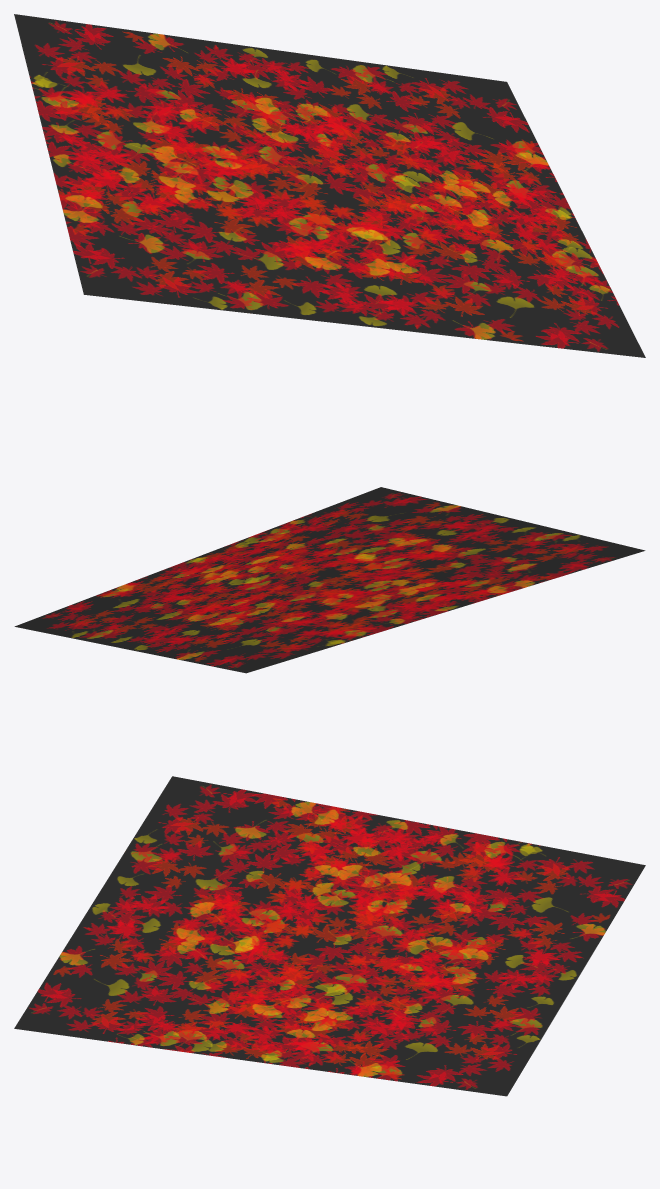
File: OBJ_CourseAki_CurveFloor_3_37.fbx
The picture shows the model from 3 angles, top to bottom: view 1: azimuth 30°, elevation 25°; view 2: azimuth 150°, elevation 25°; view 3: azimuth 270°, elevation 25°; orthographic projection. The views are drawn at different scales.
Visible parts, largest first — view 1: polySurface236; view 2: polySurface236; view 3: polySurface236.
Part boxes in pixels (<box>): polySurface236: <box>14,14,645,357</box>; polySurface236: <box>14,487,645,673</box>; polySurface236: <box>14,776,645,1096</box>.
Size of the model in its own units: 6.63 by 2 by 7.31.
Materials: 1 (1 with a texture image).
